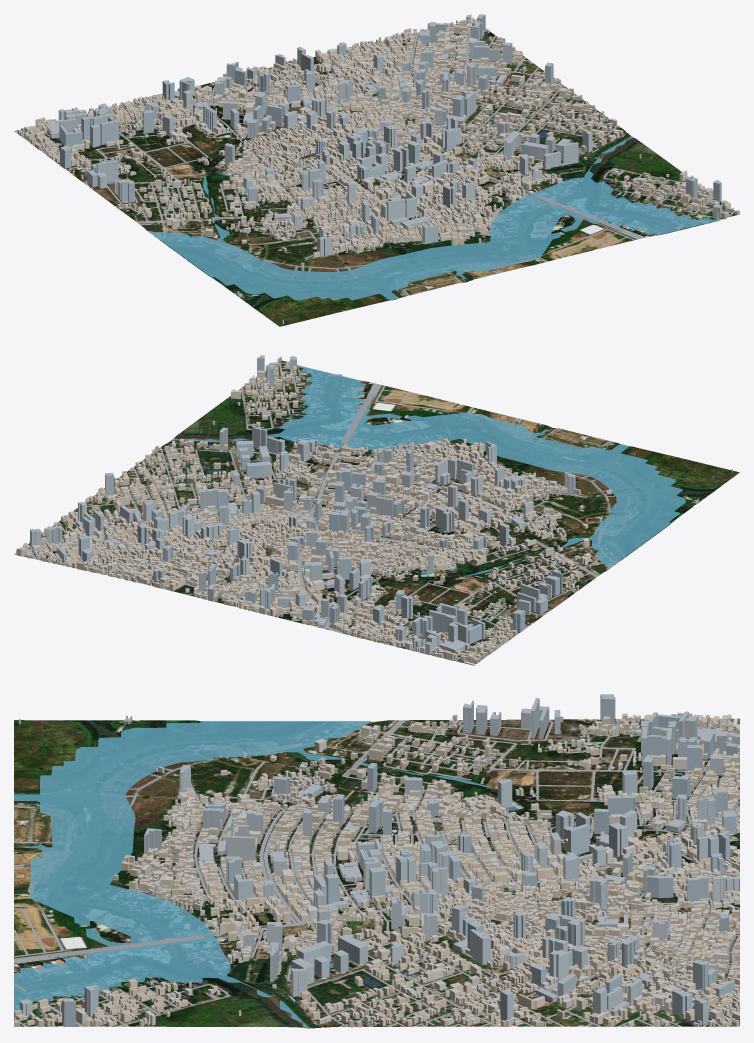
The picture shows the model from 3 angles, top to bottom: view 1: azimuth 30°, elevation 25°; view 2: azimuth 150°, elevation 25°; view 3: azimuth 270°, elevation 25°; orthographic projection. The views are drawn at different scales.
Parts seen in each view (by area): view 1: TERRAIN, BLDG_TUBE_HOUSE, BLDG_MODERN_TOWER, BLDG_SHOPHOUSE, WATER, ROAD_METRO, BLDG_INDUSTRIAL_PORT; view 2: TERRAIN, BLDG_TUBE_HOUSE, BLDG_MODERN_TOWER, BLDG_SHOPHOUSE, WATER, ROAD_METRO, BLDG_INDUSTRIAL_PORT; view 3: TERRAIN, BLDG_TUBE_HOUSE, BLDG_MODERN_TOWER, BLDG_SHOPHOUSE, WATER, ROAD_METRO, BLDG_INDUSTRIAL_PORT.
Boxes of the visible parts, bbox=[...] form: TERRAIN: bbox=[14, 24, 736, 326]; BLDG_TUBE_HOUSE: bbox=[17, 14, 739, 324]; BLDG_MODERN_TOWER: bbox=[58, 14, 722, 256]; BLDG_SHOPHOUSE: bbox=[21, 19, 727, 257]; WATER: bbox=[149, 136, 723, 309]; ROAD_METRO: bbox=[21, 24, 735, 295]; BLDG_INDUSTRIAL_PORT: bbox=[46, 53, 506, 229]; TERRAIN: bbox=[15, 360, 739, 665]; BLDG_TUBE_HOUSE: bbox=[16, 356, 732, 663]; BLDG_MODERN_TOWER: bbox=[30, 355, 575, 654]; BLDG_SHOPHOUSE: bbox=[20, 364, 582, 662]; WATER: bbox=[171, 365, 714, 576]; ROAD_METRO: bbox=[14, 362, 614, 661]; BLDG_INDUSTRIAL_PORT: bbox=[75, 465, 527, 652]; TERRAIN: bbox=[14, 718, 739, 1028]; BLDG_TUBE_HOUSE: bbox=[14, 714, 739, 1027]; BLDG_MODERN_TOWER: bbox=[19, 694, 739, 1026]; BLDG_SHOPHOUSE: bbox=[14, 712, 739, 1027]; WATER: bbox=[14, 721, 493, 1027]; ROAD_METRO: bbox=[14, 718, 739, 1027]; BLDG_INDUSTRIAL_PORT: bbox=[198, 727, 738, 1015].
Size of the model in its own units: 2000 by 94.17 by 2000.
7 materials, 1 textured.
